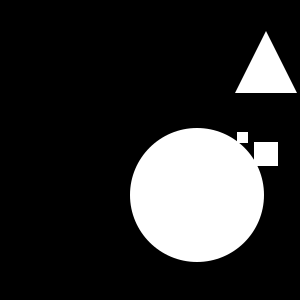circle: (254, 142, 278, 166), (237, 132, 248, 143)
rectangle: (130, 128, 264, 262)
triangle: (235, 31, 297, 93)
